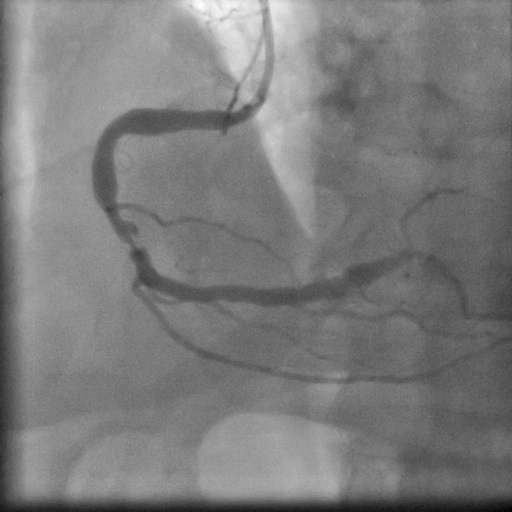Stenosis: (105, 222, 154, 258)
